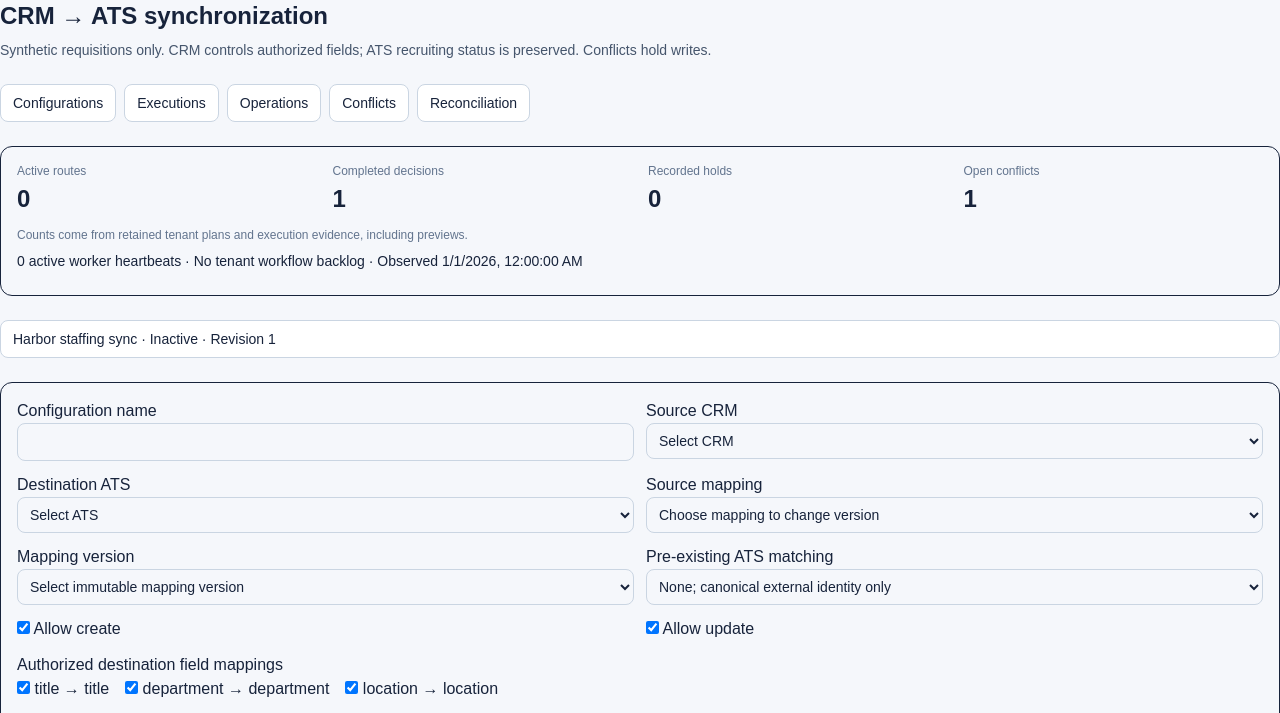
Test case: configuration activation uses optimistic revision
Click the button "Harbor staffing sync · Inactive · Revision 1". click: (75, 339)
box: [0,320,1279,358]
(page scrolled)
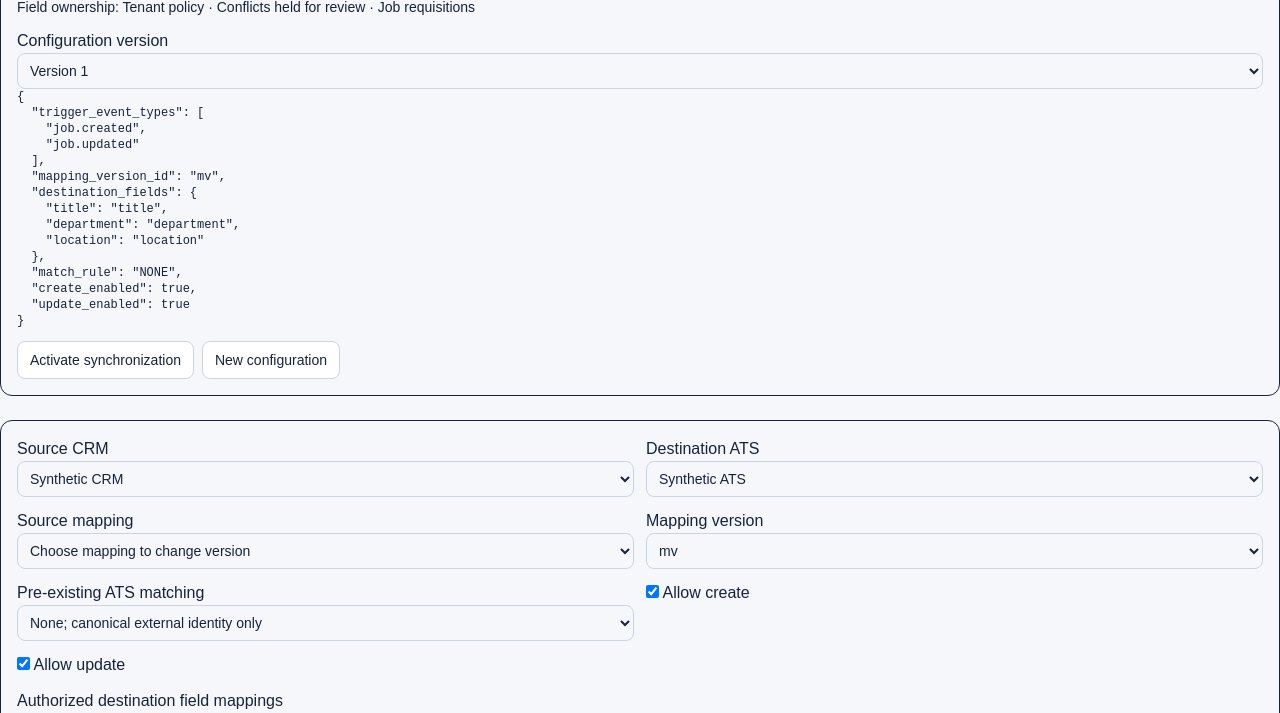
Click the button "Activate synchronization". click: (106, 360)
box: [17,341,194,379]
(page scrolled)
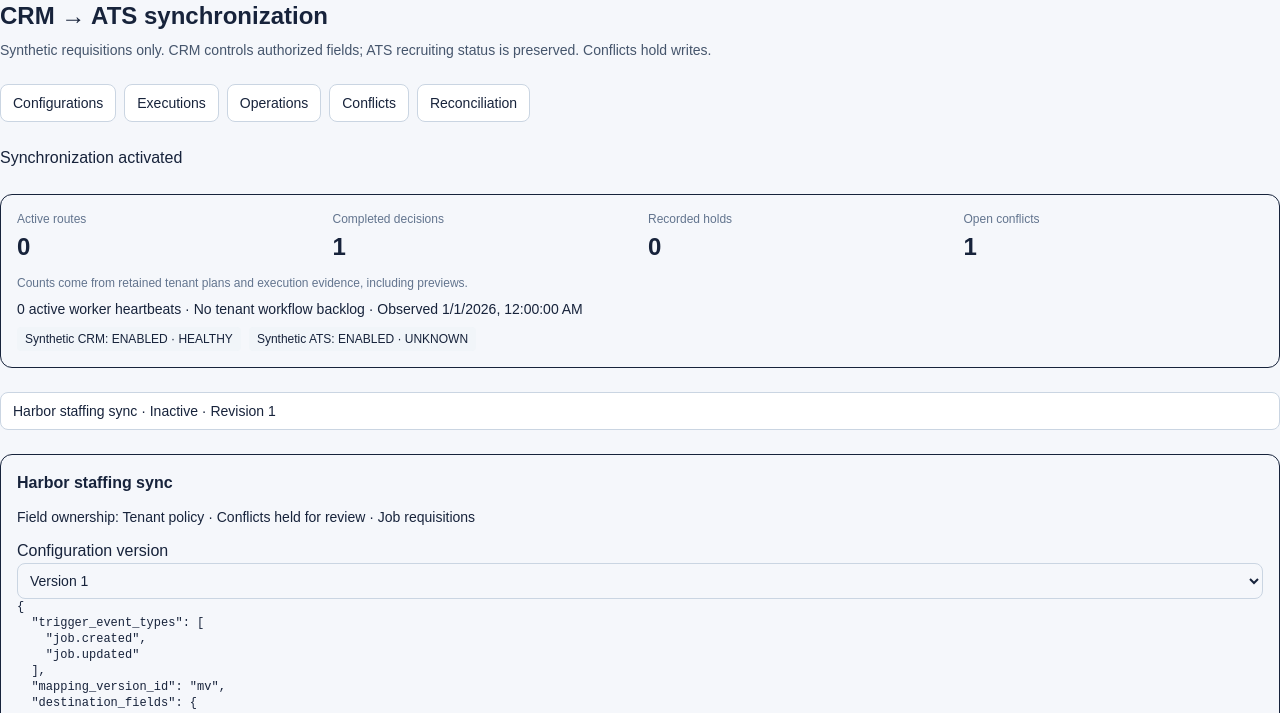
Expected: the text "Synchronization activated" is shown, [0,149,182,166]
